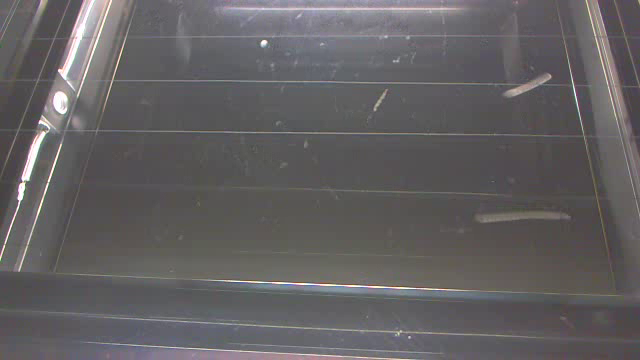alpha: (478, 204, 572, 230), (501, 79, 556, 102), (373, 89, 387, 113)
